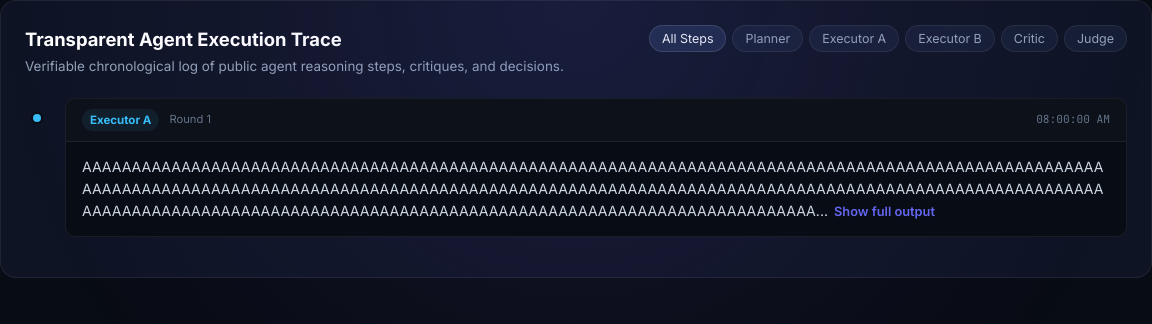
AgentTraceViewer Component › allows expanding long output text
Click the button "Show full output" at (884, 212), box left=834, top=204, right=935, bottom=219
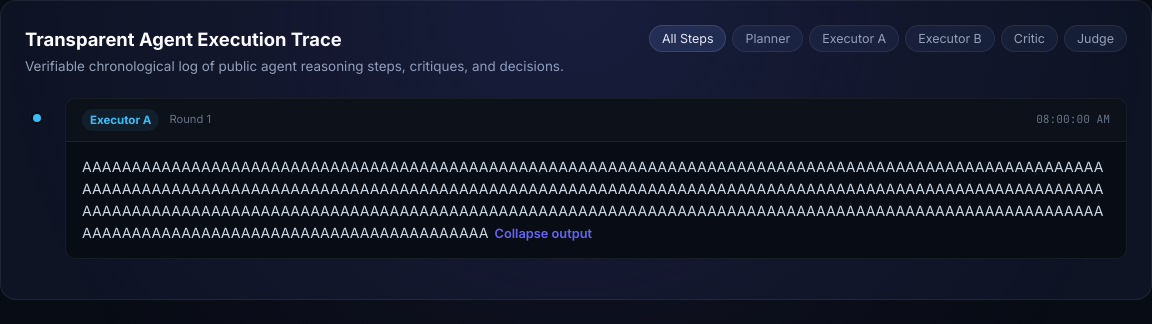
Now the button "Collapse output" is shown, box left=494, top=226, right=592, bottom=241
